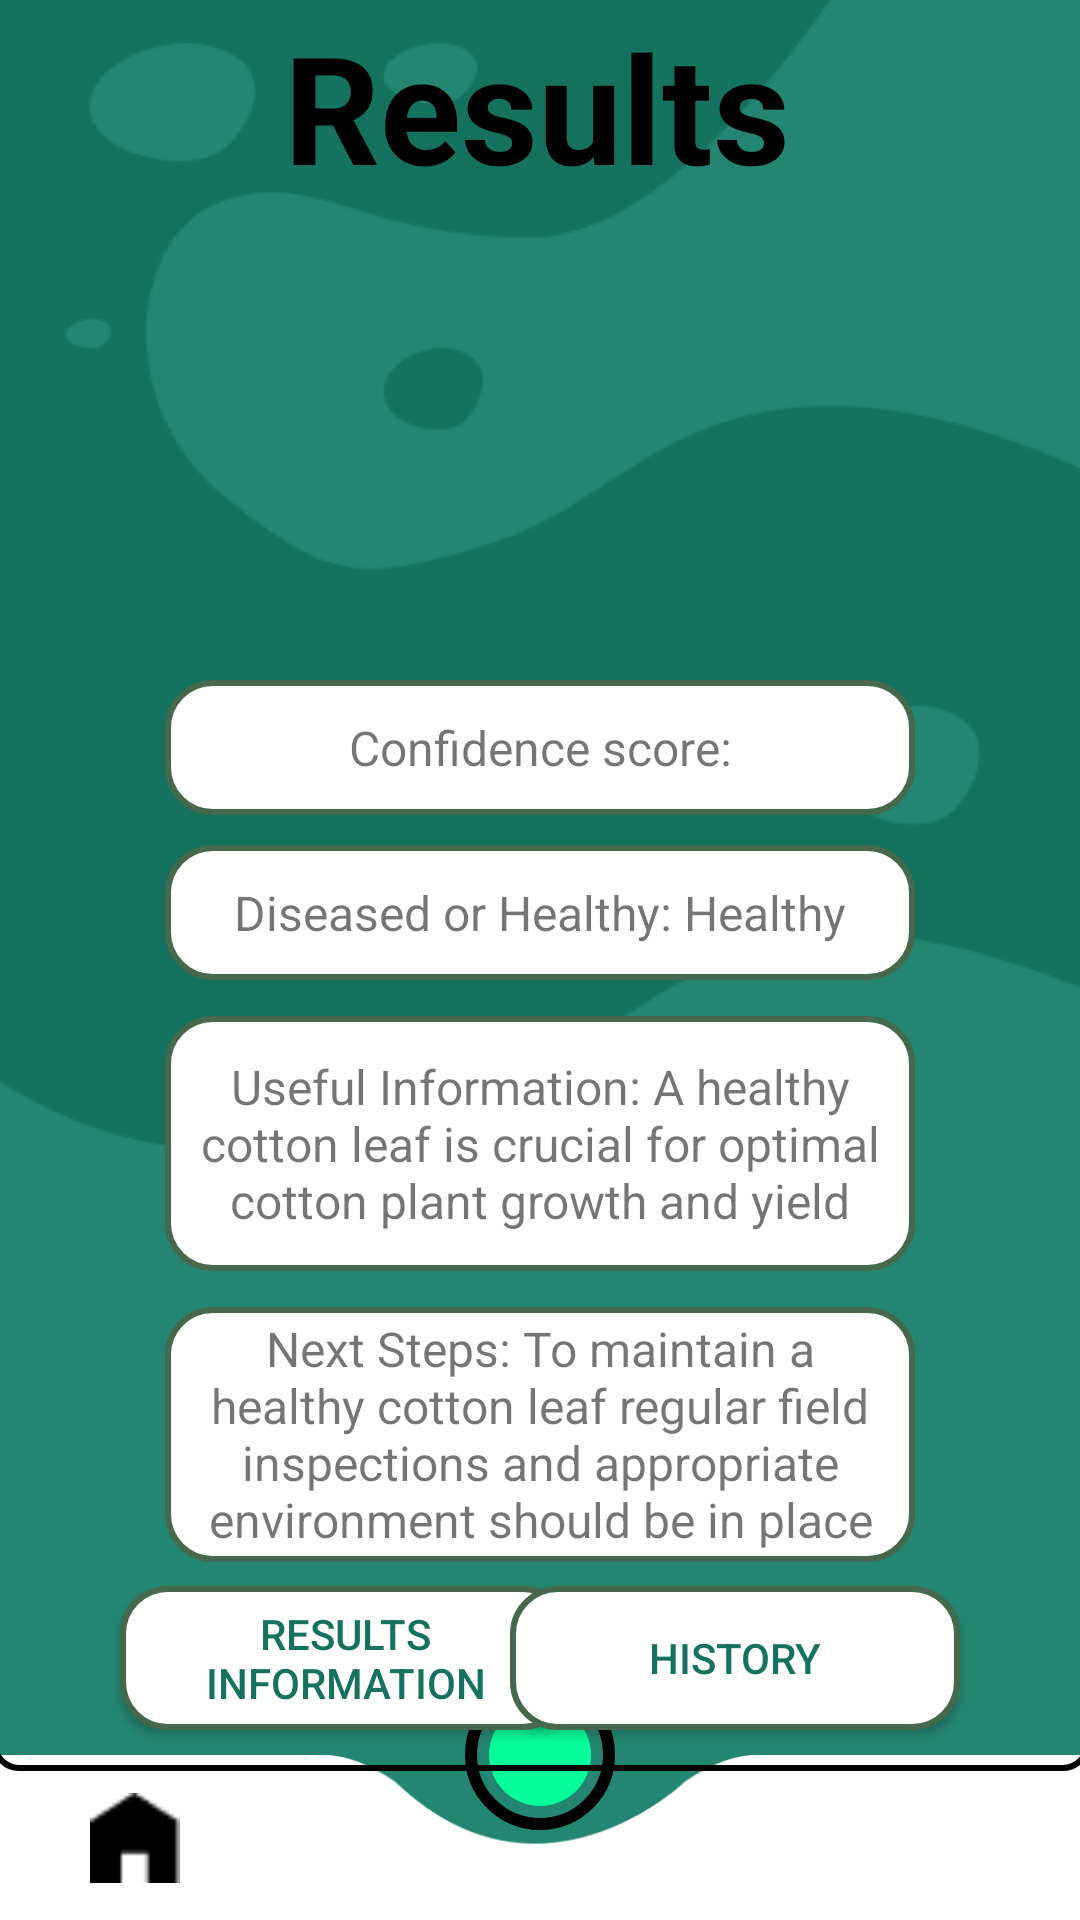

Icon click points for this 1080x1920 phone screenshot, format (x=x, y=y):
takephoto: (x=540, y=1755)
